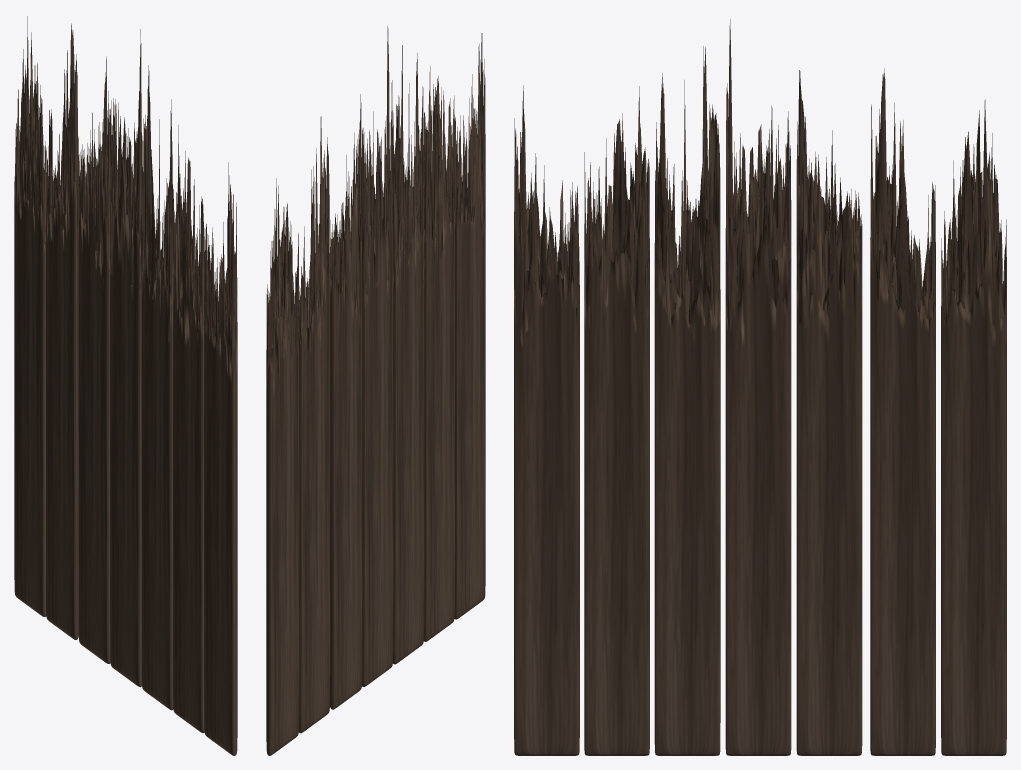
Rendered from Broken Wood.fbx.
The picture shows the model from 3 angles, left to right: view 1: azimuth 30°, elevation 25°; view 2: azimuth 150°, elevation 25°; view 3: azimuth 270°, elevation 25°; orthographic projection. The views are drawn at different scales.
Parts seen in each view (by area): view 1: Cube; view 2: Cube; view 3: Cube.
Boxes of the visible parts, left/top/right/bottom form: Cube: left=14, top=16, right=237, bottom=755; Cube: left=266, top=26, right=485, bottom=755; Cube: left=514, top=19, right=1006, bottom=755.
Size of the model in its own units: 23.97 by 2478 by 1491.
1 material, 1 textured.
